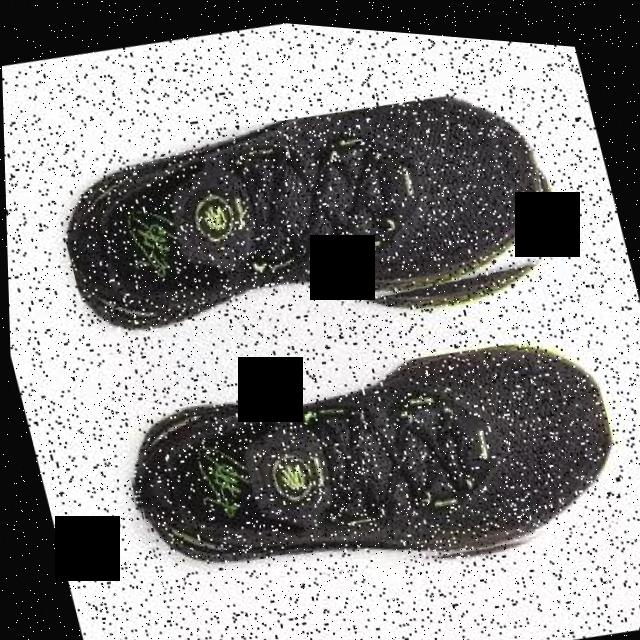shoe: (40, 44, 577, 388), (106, 292, 636, 632)
